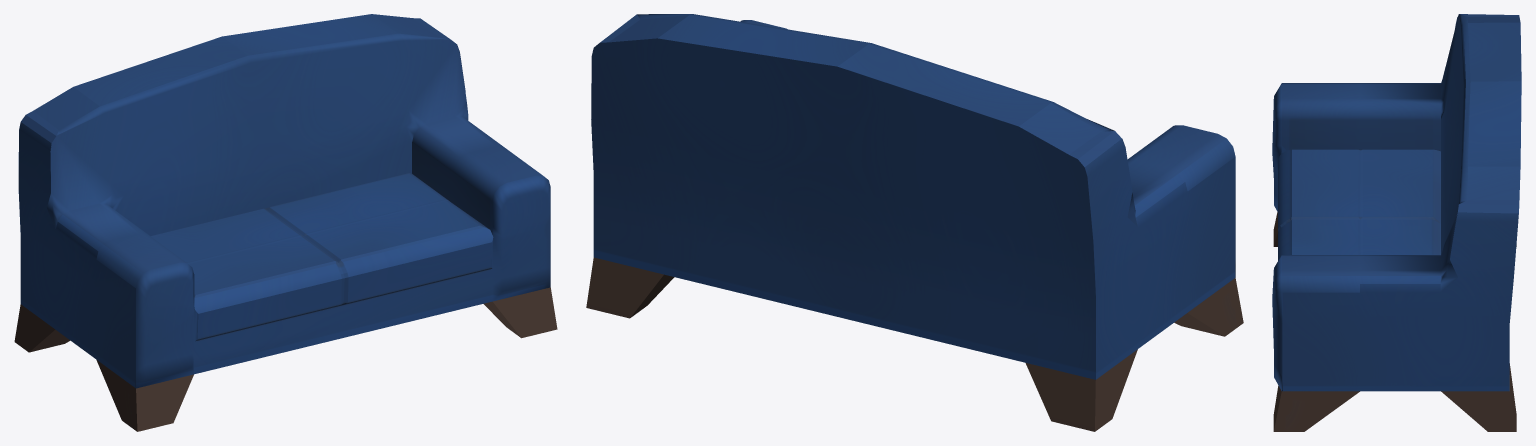
The model's file is couch.fbx.
3 views of the same model, side by side, from view 1: azimuth 30°, elevation 25°; view 2: azimuth 150°, elevation 25°; view 3: azimuth 270°, elevation 25° (orthographic). The views are drawn at different scales.
Parts seen in each view (by area): view 1: couch; view 2: couch; view 3: couch.
Part boxes in pixels (x1,y1,x2,y2): couch: (14,14,557,431); couch: (586,14,1243,431); couch: (1272,14,1521,431).
Size of the model in its own units: 4.06 by 2.33 by 2.11.
